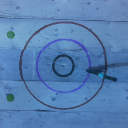Axe Tip: (91, 67, 102, 71)
